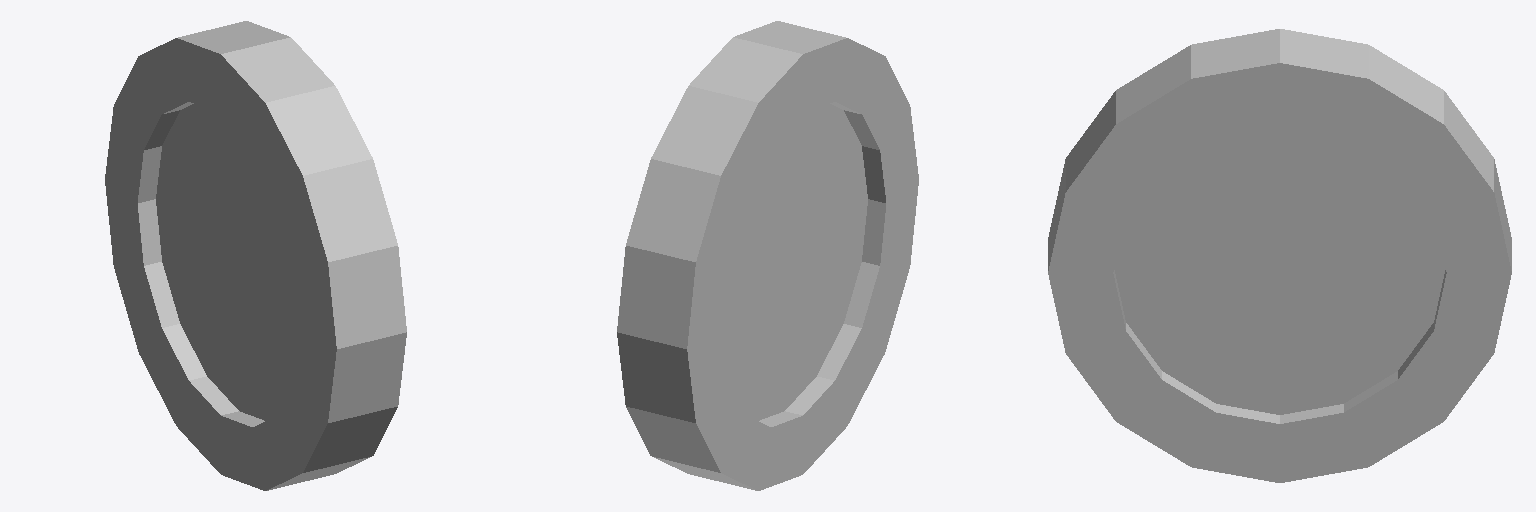
File: Gold_Coin.obj
3 views of the same model, side by side, from view 1: azimuth 30°, elevation 25°; view 2: azimuth 150°, elevation 25°; view 3: azimuth 270°, elevation 25° (orthographic).
Parts seen in each view (by area): view 1: Coin_Cylinder; view 2: Coin_Cylinder; view 3: Coin_Cylinder.
Boxes of the visible parts, <box> form: Coin_Cylinder: <box>105,21,406,490</box>; Coin_Cylinder: <box>617,21,918,490</box>; Coin_Cylinder: <box>1048,29,1511,482</box>.
Size of the model in its own units: 0.1616 by 0.9237 by 0.9237.